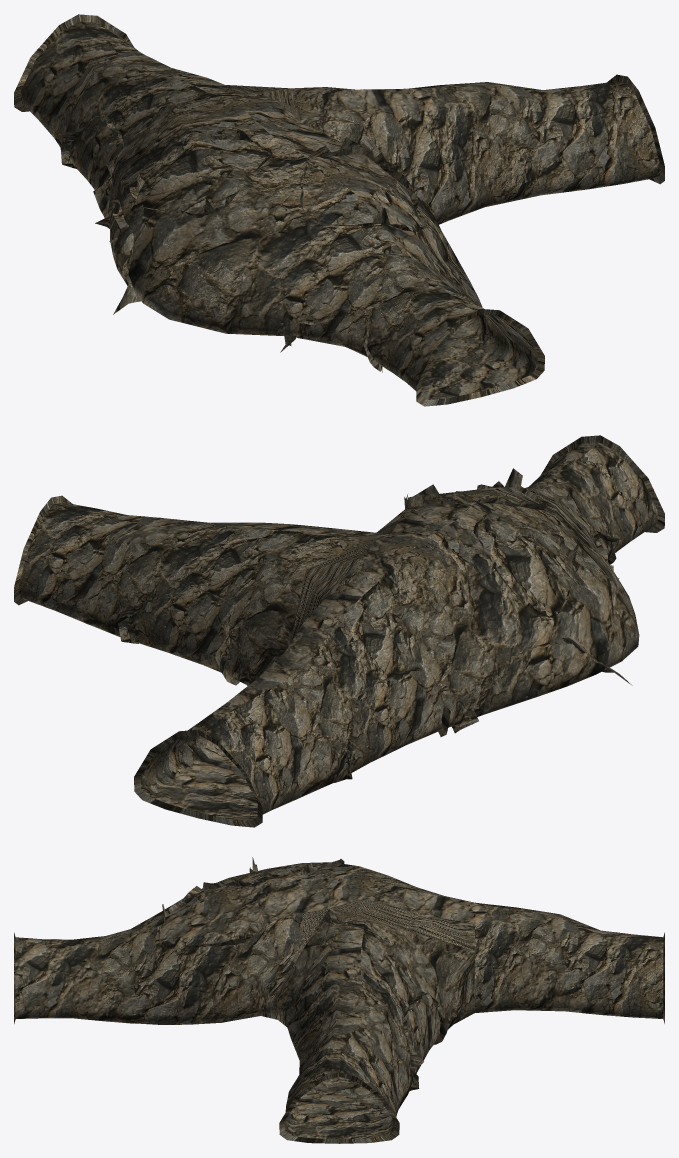
The model's file is 3way.obj.
The picture shows the model from 3 angles, top to bottom: view 1: azimuth 30°, elevation 25°; view 2: azimuth 150°, elevation 25°; view 3: azimuth 270°, elevation 25°; orthographic projection. The views are drawn at different scales.
Visible parts, largest first — view 1: CaveWall; view 2: CaveWall; view 3: CaveWall.
Boxes of the visible parts, x1,y1,x2,y2 form: CaveWall: (14, 14, 664, 406); CaveWall: (14, 435, 664, 827); CaveWall: (14, 857, 664, 1143).
Size of the model in its own units: 206 by 58.84 by 261.
